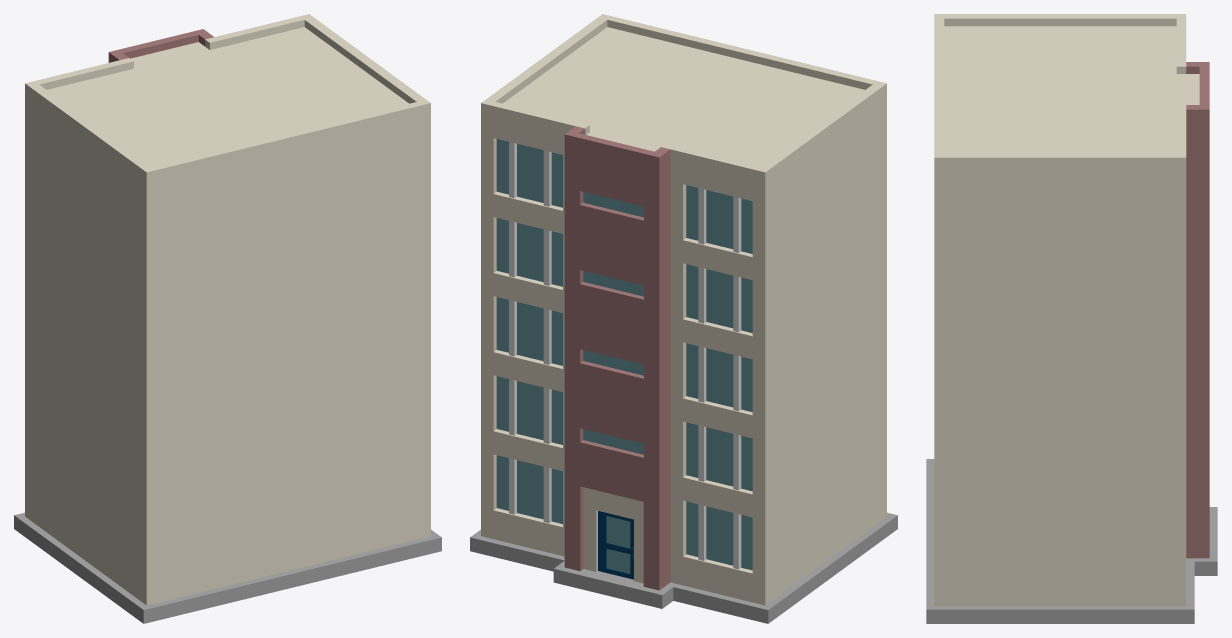
File: cry_apartment_01_dylan.fbx
3 renders of one model, left to right at view 1: azimuth 30°, elevation 25°; view 2: azimuth 150°, elevation 25°; view 3: azimuth 270°, elevation 25°, orthographic. The views are drawn at different scales.
Visible parts, largest first — view 1: polySurface9; view 2: polySurface9; view 3: polySurface9.
Part boxes in pixels (x1,y1,x2,y2): polySurface9: (14, 14, 441, 623); polySurface9: (470, 14, 897, 623); polySurface9: (926, 14, 1217, 623).
Bounding box in the file's own units: 1081 × 1548 × 884.
